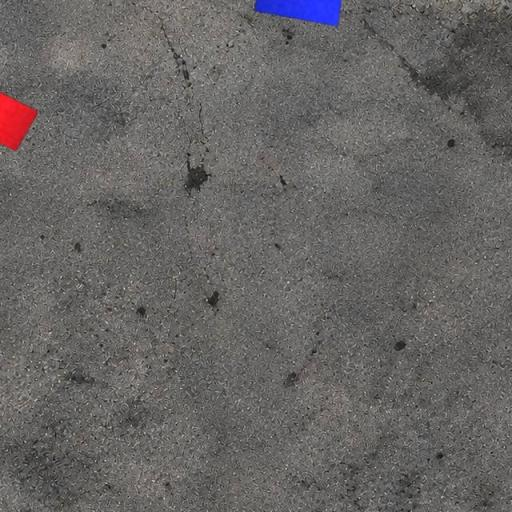RED_SQUARE: (0, 89, 39, 152)
